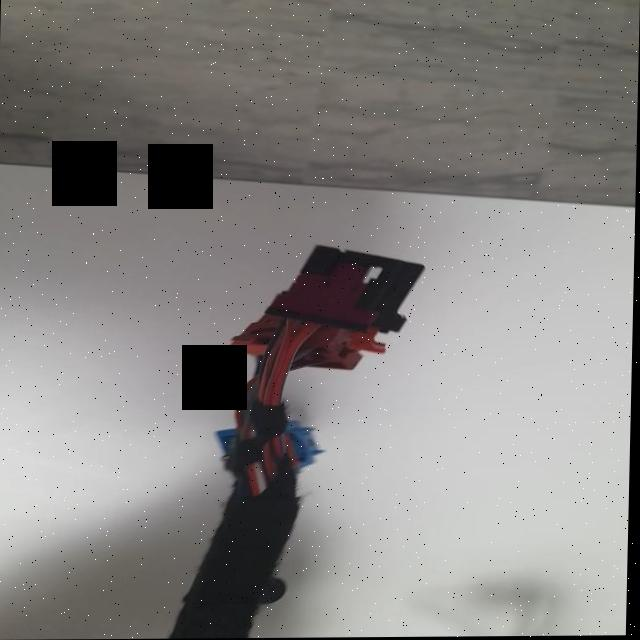connector: (210, 202, 449, 435)
